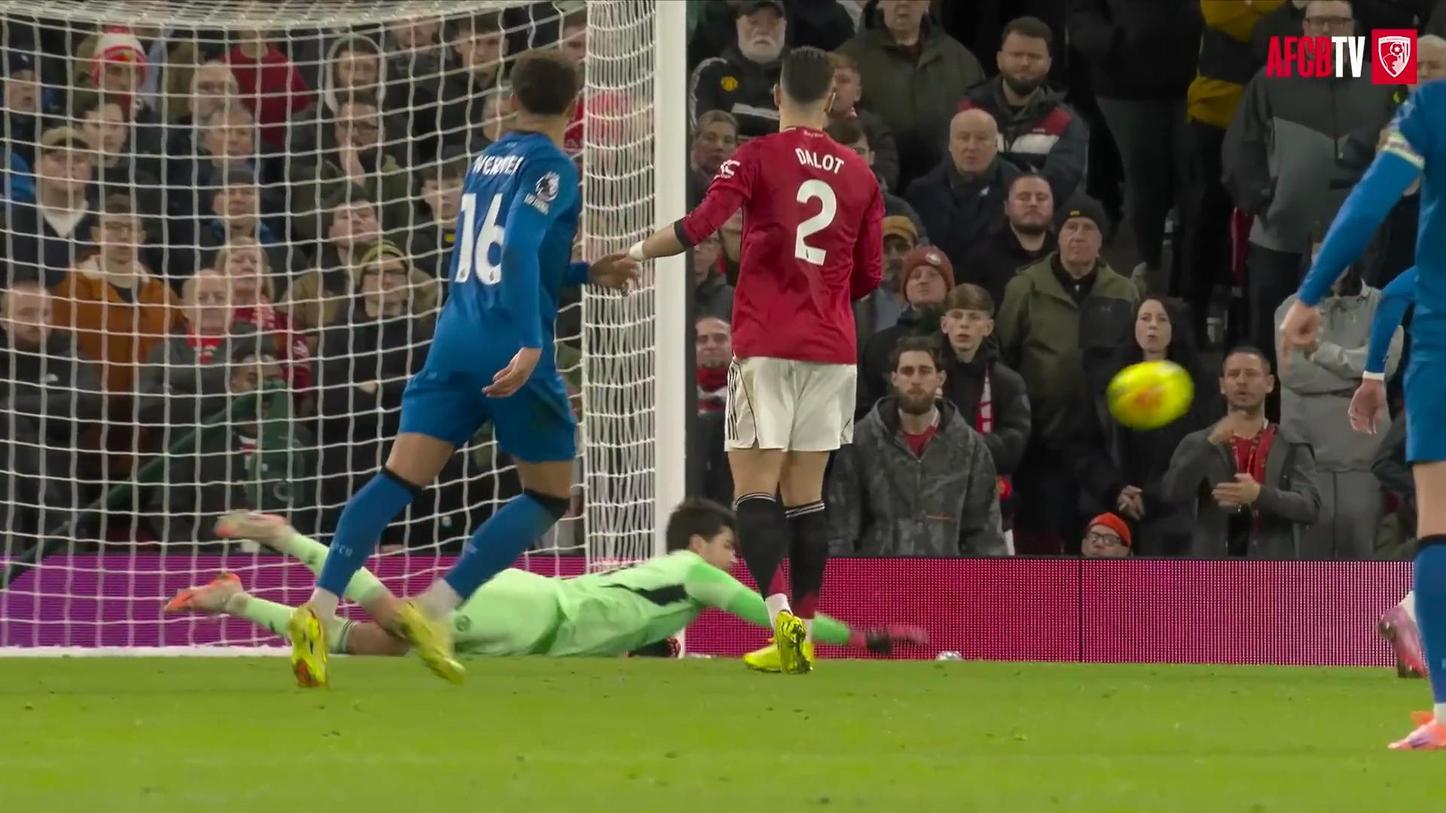football: (1107, 361, 1193, 429)
player: (288, 51, 636, 686), (630, 47, 883, 673), (1280, 81, 1445, 749), (447, 499, 767, 656), (1377, 592, 1424, 676)
